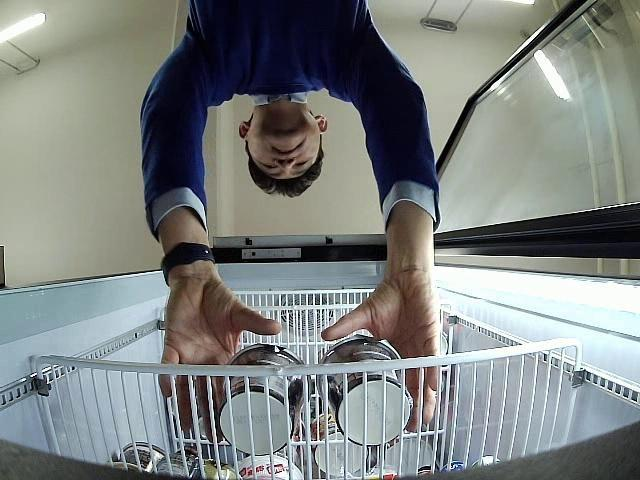08_buldak_S: (316, 334, 412, 446), (218, 344, 310, 453)
